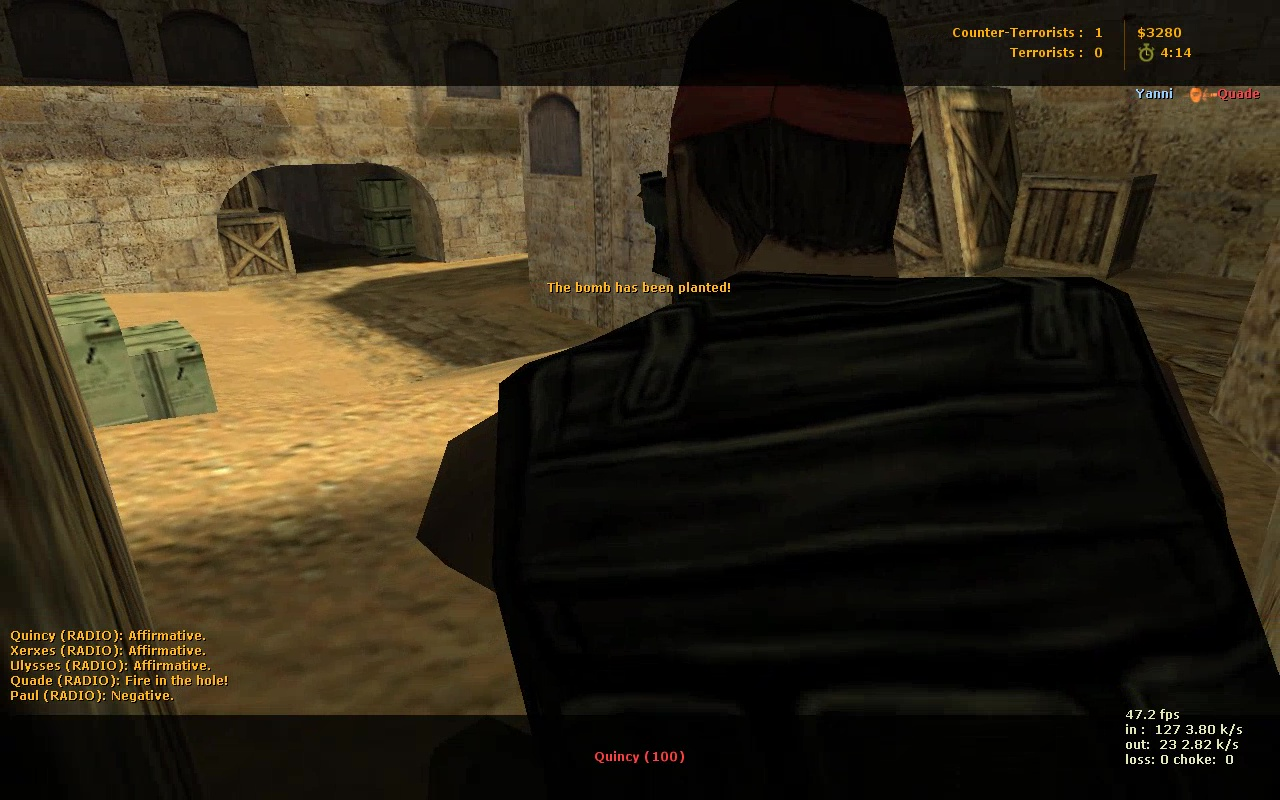terr1: (463, 39, 1252, 739)
